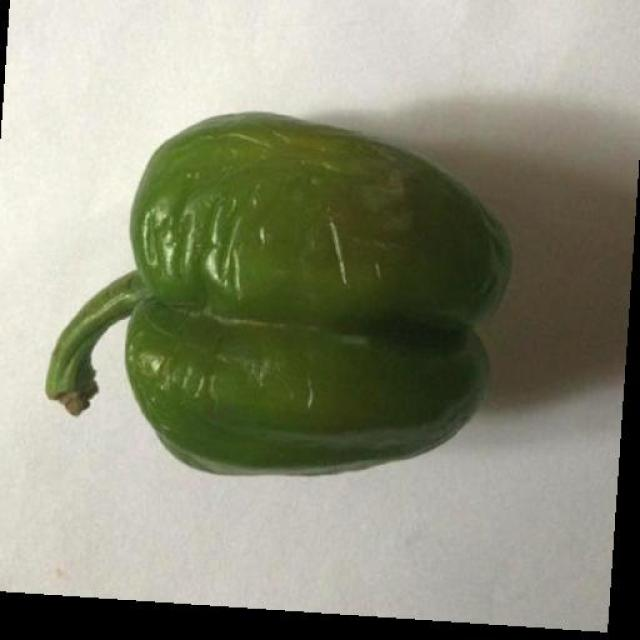Stale_Capsicum: (49, 96, 515, 484)
